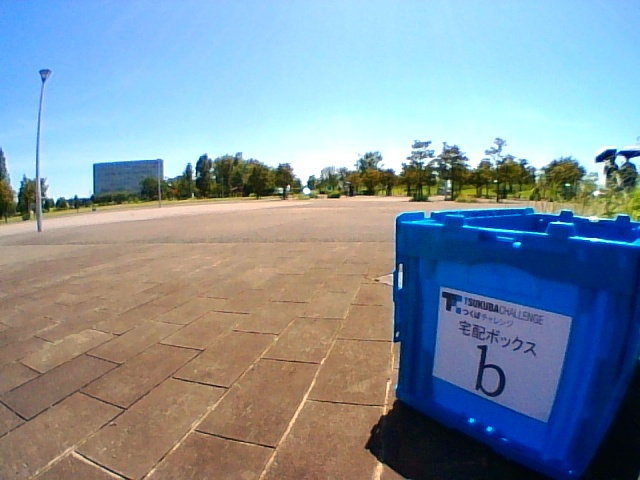blue_box: (397, 210, 640, 477)
tag_b: (456, 309, 548, 397)
